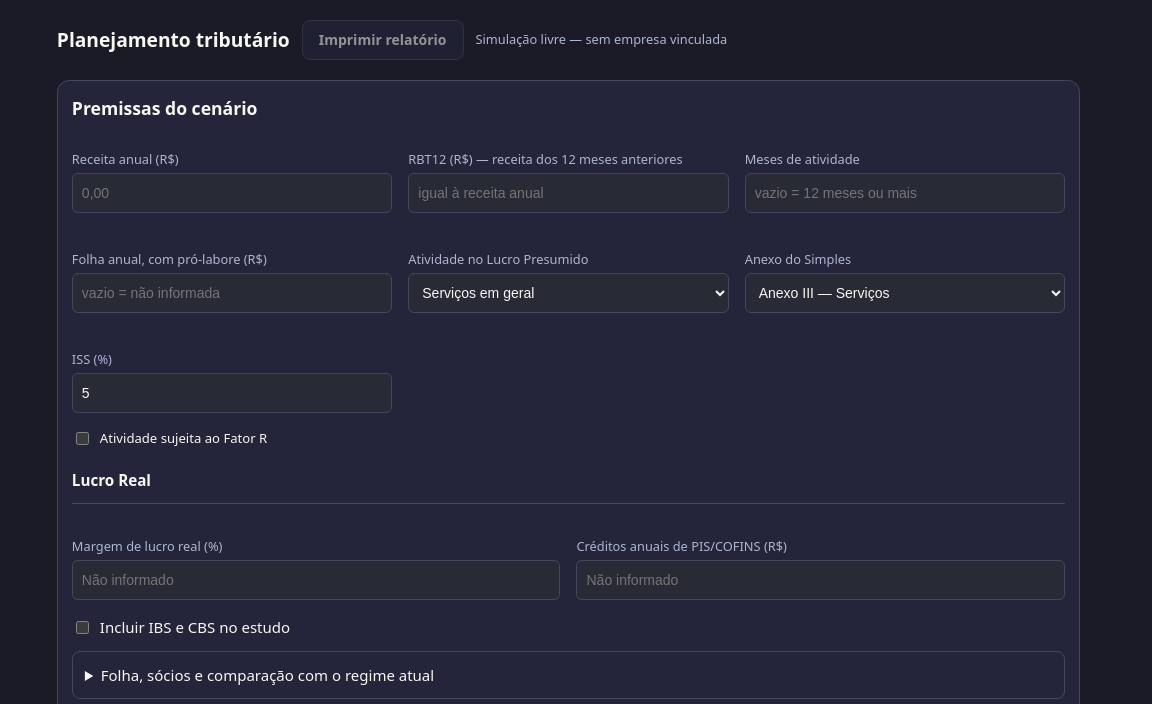
Test: ⚠⚠ percentual NÃO ganhou a máscara de moeda — e o ponto virou decimal › ⚠⚠ margem NEGATIVA é recusada e a tela diz — ela produzia IMPOSTO NEGATIVO
Type "-5" into the field labelled "Margem de lucro real (%)" at (316,580), box 72,560 -> 560,600
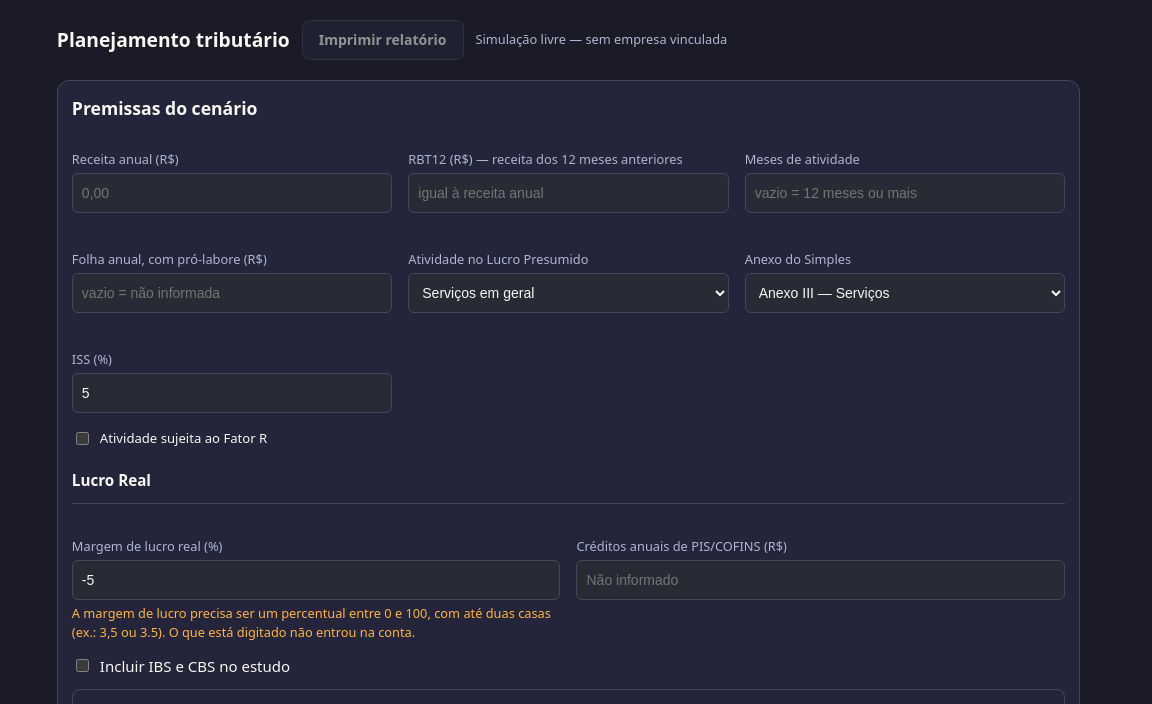
Check: the text "A margem de lucro precisa ser um percentual" is shown, box 72,604 -> 551,641
